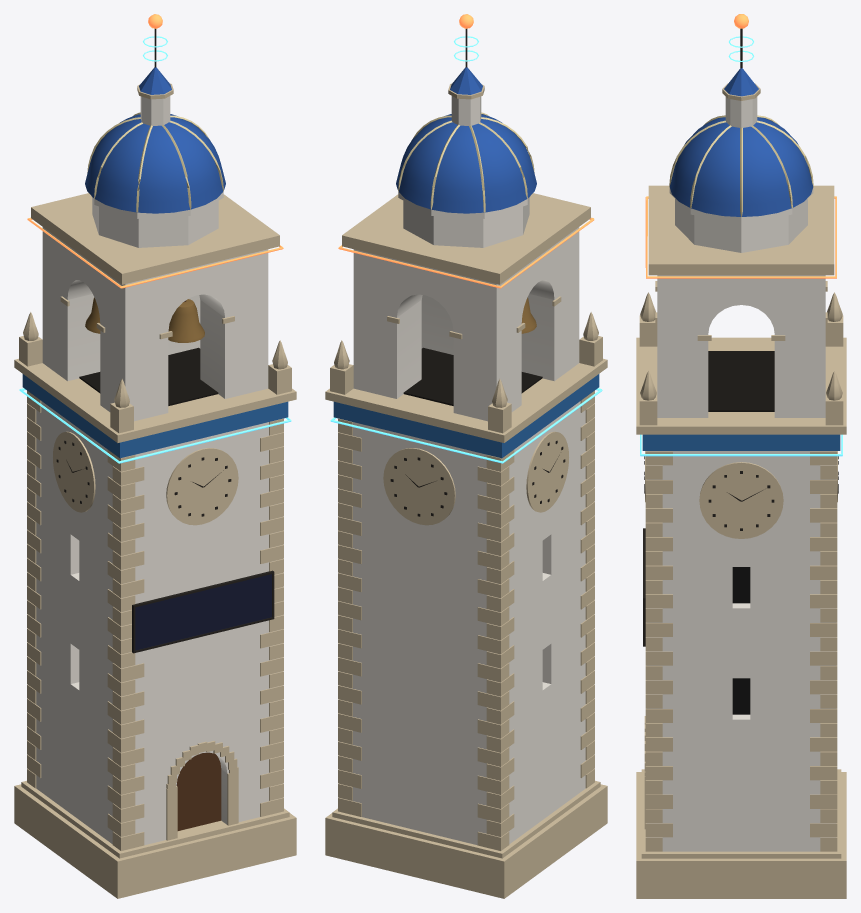
3 views of the same model, side by side, from view 1: azimuth 30°, elevation 25°; view 2: azimuth 150°, elevation 25°; view 3: azimuth 270°, elevation 25° (orthographic).
Visible parts, largest first — view 1: tower.lod0; view 2: tower.lod0; view 3: tower.lod0.
Part boxes in pixels (x1,y1,x2,y2): tower.lod0: (14,14,296,898); tower.lod0: (325,14,607,898); tower.lod0: (636,14,846,898).
Size of the model in its own units: 6 by 26.42 by 6.
